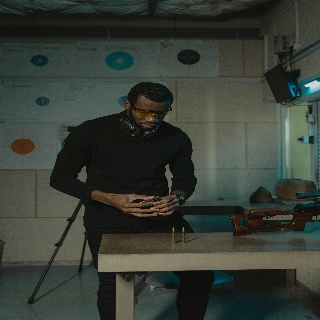rifle: (230, 190, 320, 237)
